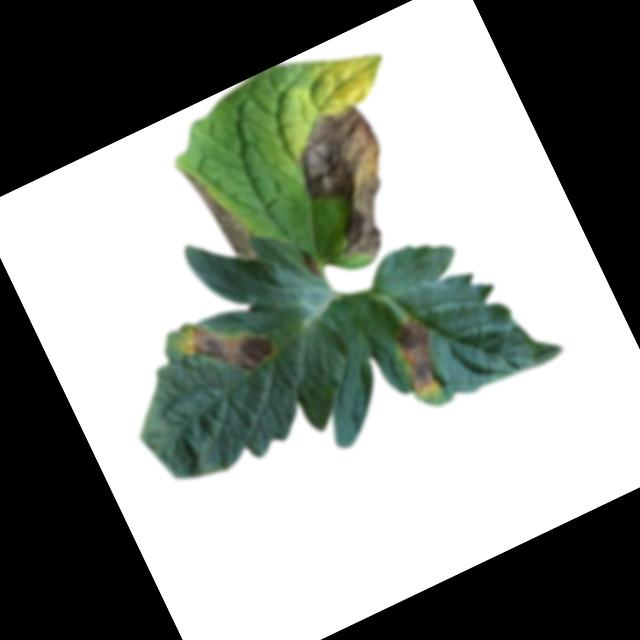Early_blight: (278, 100, 422, 272), (174, 302, 278, 396), (182, 156, 261, 272), (380, 312, 454, 401), (298, 247, 325, 282)
